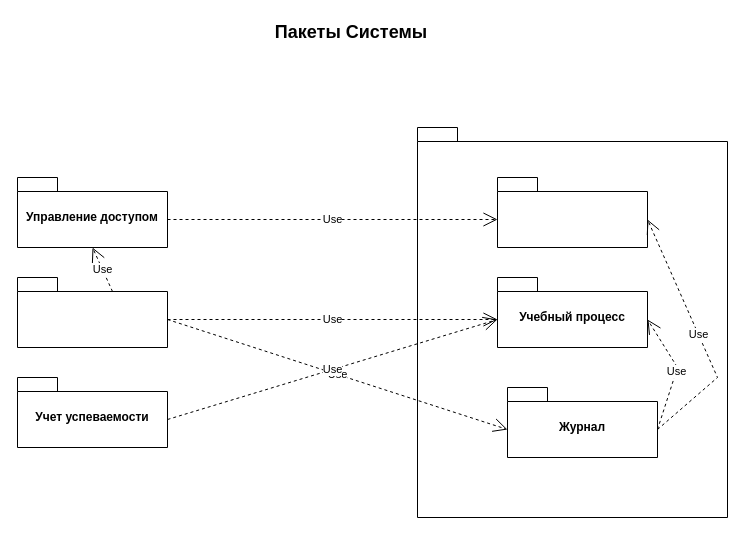
The diagram is 749 pixels wide and 535 high, and some of its shapes have lost their labels. Here are the shapes that lost their labels. From the top down, the centre of each, then its label:
(x=572, y=212): Пользователи
(x=92, y=312): Управление учебным процессом
